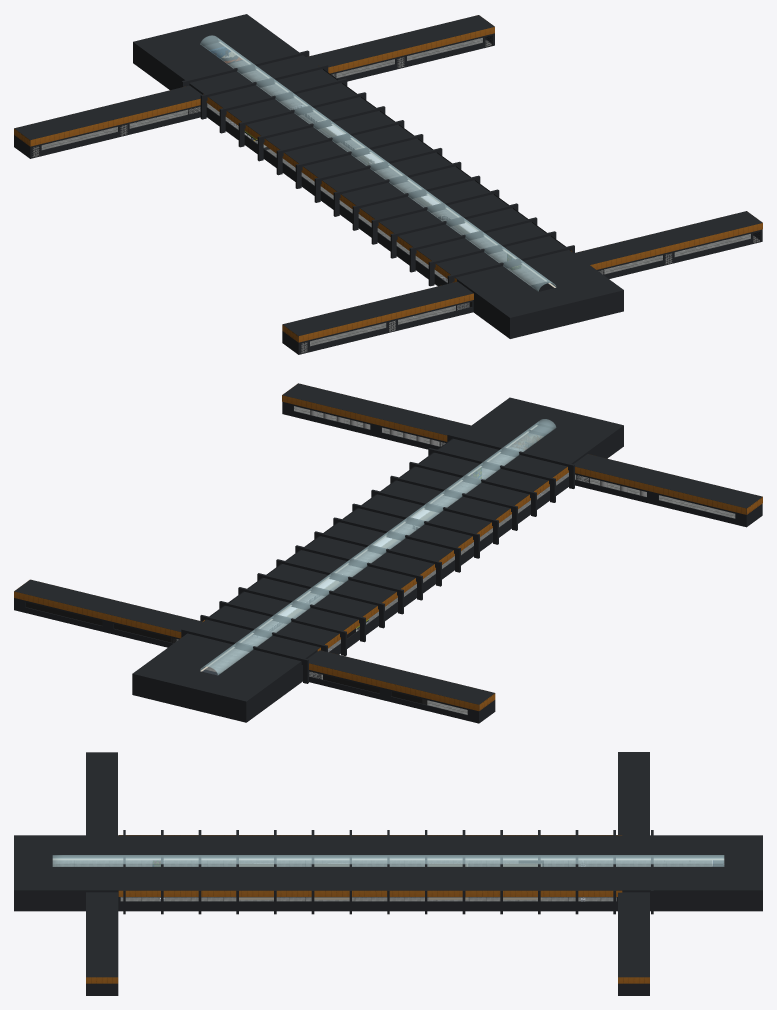
File: Estacion_Planta_Alta.fbx
3 renders of one model, top to bottom at view 1: azimuth 30°, elevation 25°; view 2: azimuth 150°, elevation 25°; view 3: azimuth 270°, elevation 25°, orthographic.
Visible parts, largest first — view 1: Estacion_Base, Vigas_Estructurales, Domo, Pasillo_Sal_1, Pasillo_Ent_1, Pasillo_Sal_2, Pasillo_Ent_2; view 2: Estacion_Base, Vigas_Estructurales, Domo, Pasillo_Sal_1, Pasillo_Ent_1, Pasillo_Sal_2, Pasillo_Ent_2, Puesto_Cubo_02; view 3: Estacion_Base, Domo, Vigas_Estructurales, Pasillo_Sal_2, Pasillo_Ent_2, Pasillo_Sal_1, Pasillo_Ent_1.
Boxes of the visible parts, x1,y1,x2,y2 form: Estacion_Base: [133, 14, 623, 338]; Vigas_Estructurales: [181, 50, 574, 286]; Domo: [200, 35, 556, 291]; Pasillo_Sal_1: [282, 281, 473, 354]; Pasillo_Ent_1: [14, 85, 201, 158]; Pasillo_Sal_2: [574, 211, 762, 278]; Pasillo_Ent_2: [306, 15, 494, 81]; Estacion_Base: [132, 397, 623, 722]; Vigas_Estructurales: [181, 434, 574, 683]; Domo: [200, 419, 556, 674]; Pasillo_Sal_1: [574, 454, 762, 527]; Pasillo_Ent_1: [308, 650, 495, 723]; Pasillo_Sal_2: [282, 383, 470, 449]; Pasillo_Ent_2: [14, 579, 202, 647]; Puesto_Cubo_02: [26, 602, 176, 643]; Estacion_Base: [14, 835, 762, 911]; Domo: [52, 855, 724, 866]; Vigas_Estructurales: [123, 830, 653, 914]; Pasillo_Sal_2: [86, 892, 118, 995]; Pasillo_Ent_2: [618, 892, 649, 995]; Pasillo_Sal_1: [86, 752, 117, 835]; Pasillo_Ent_1: [618, 752, 649, 835].
Size of the model in its own units: 103 by 5.9 by 145.
Materials: 161 (65 with a texture image).
